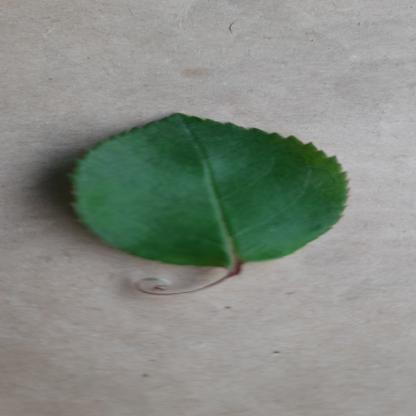normal: (58, 109, 360, 269)
